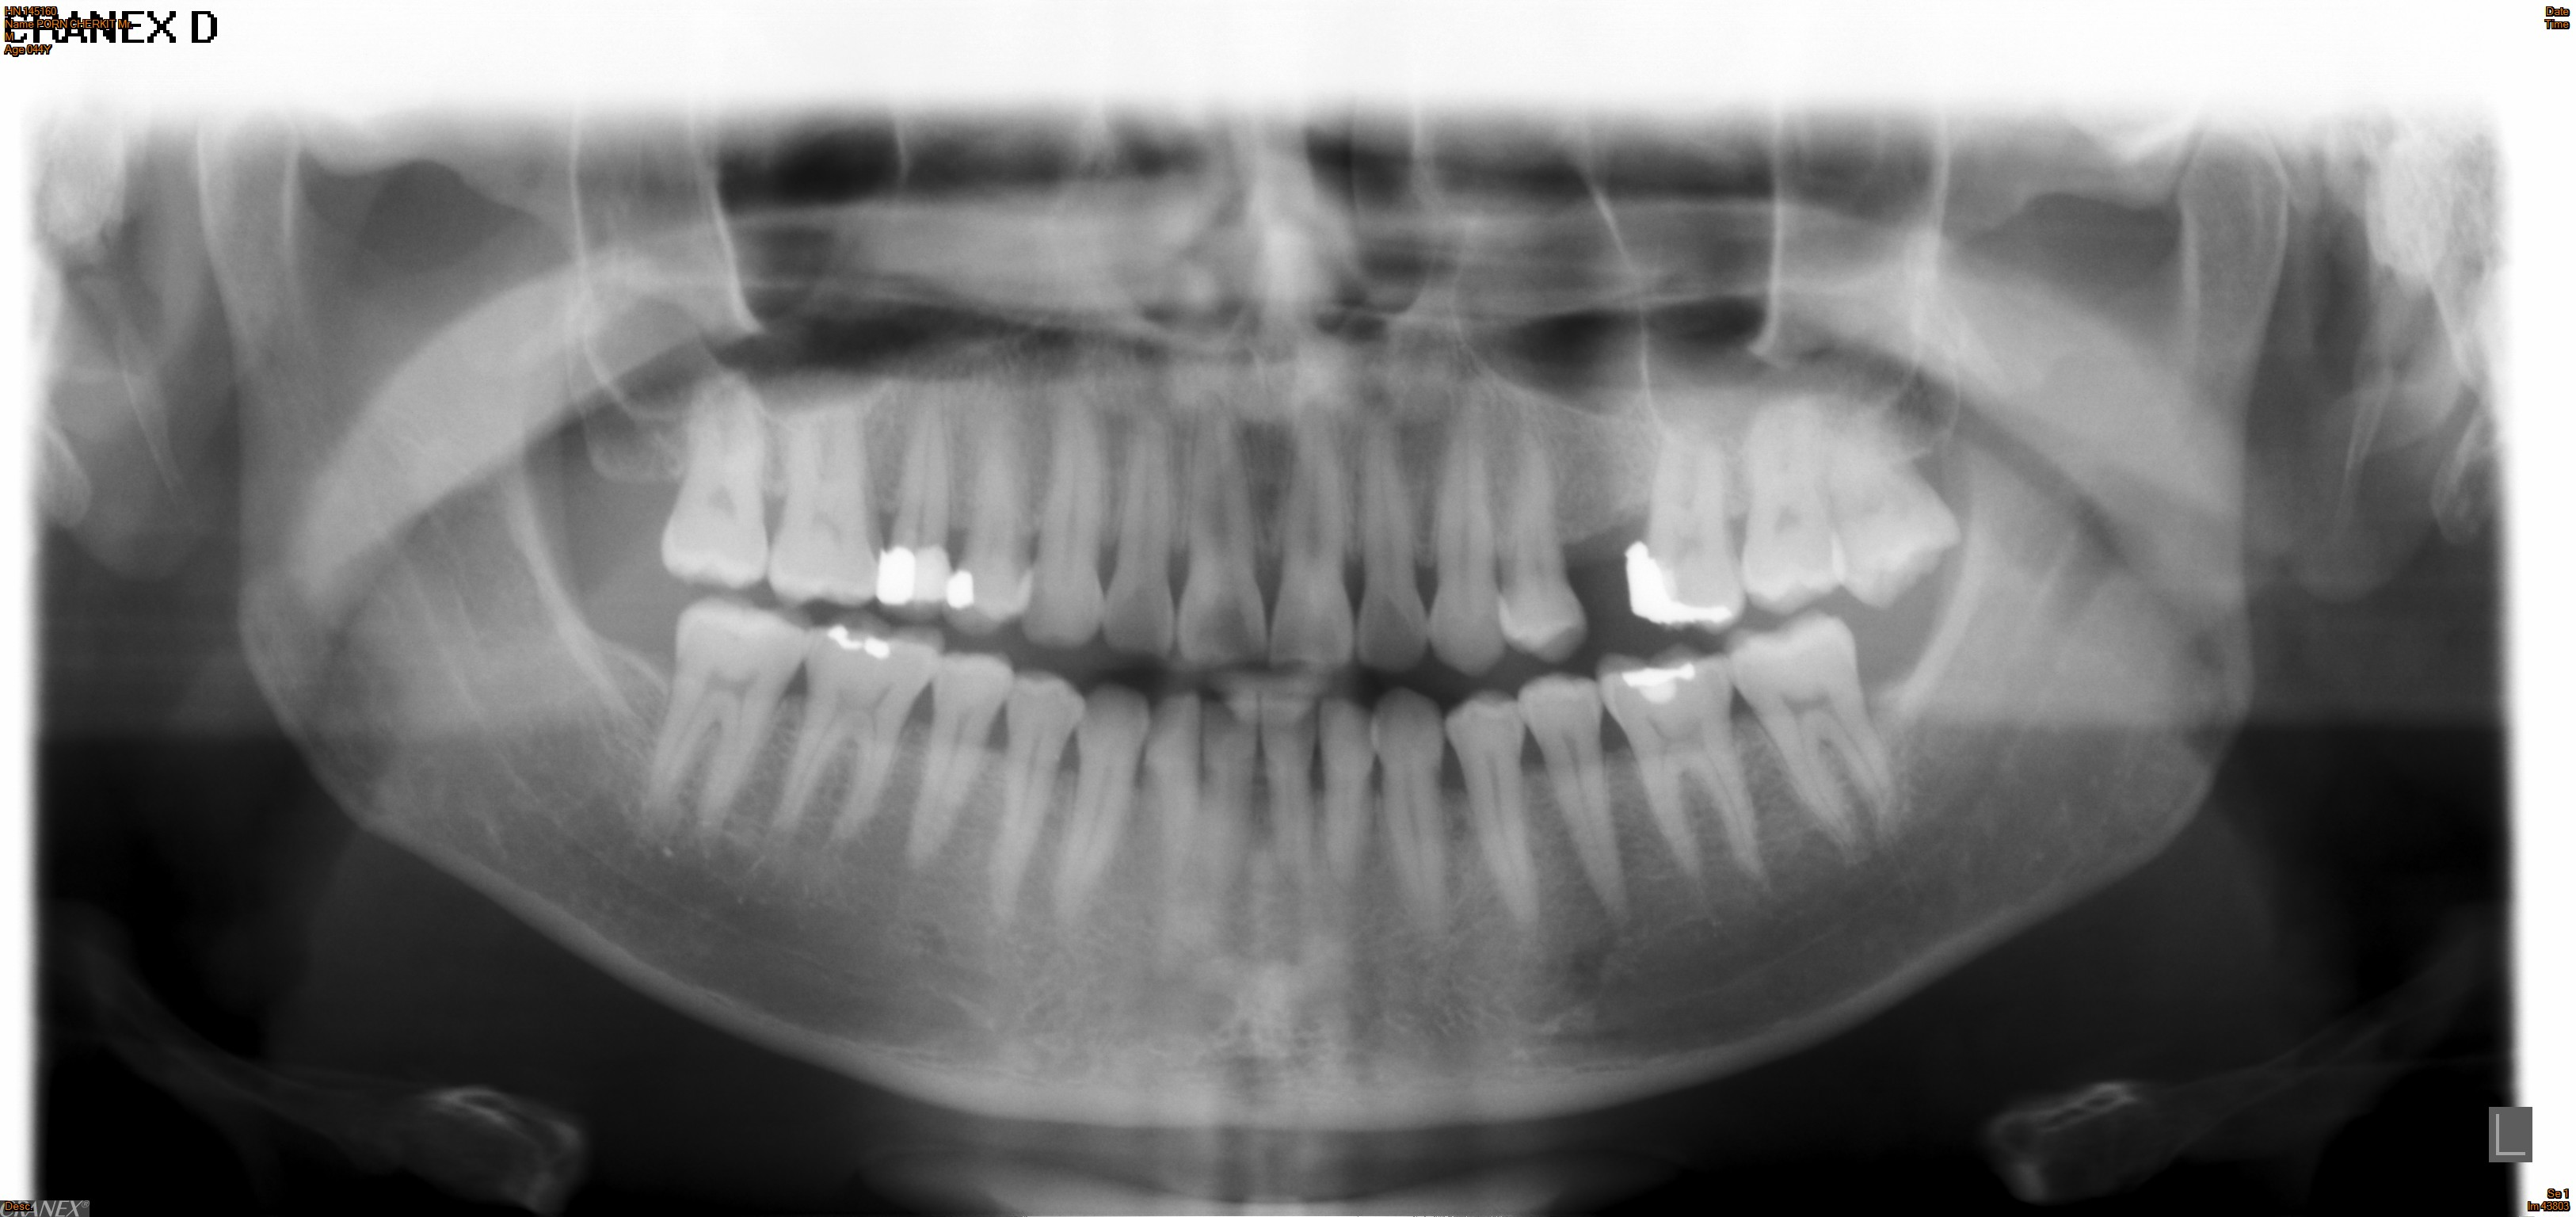periodontitis: (1579, 641, 1787, 907)
